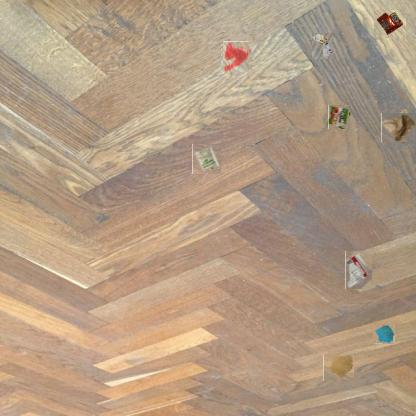dirty: (383, 110, 416, 144), (345, 251, 372, 289), (374, 10, 406, 38), (192, 144, 221, 174), (327, 106, 350, 129), (312, 33, 332, 59), (373, 323, 395, 344)
liquid: (222, 43, 251, 71), (323, 356, 354, 382)
